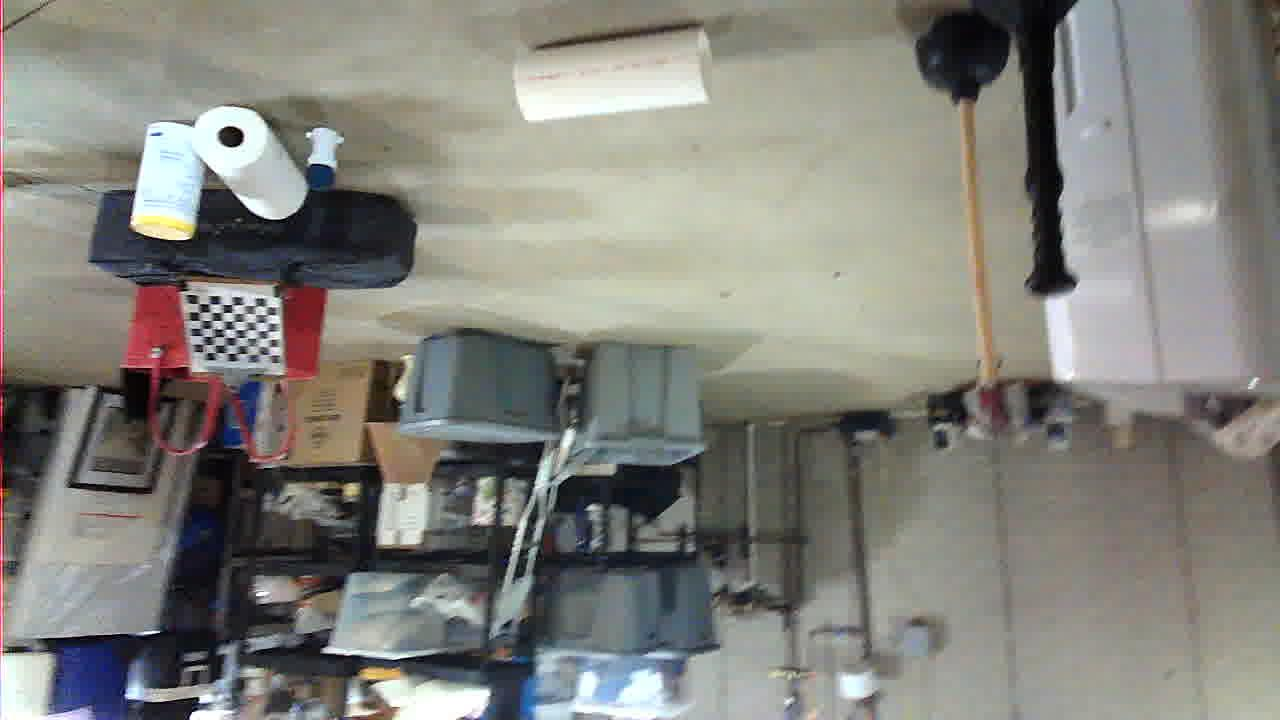coral: (566, 598, 766, 693)
